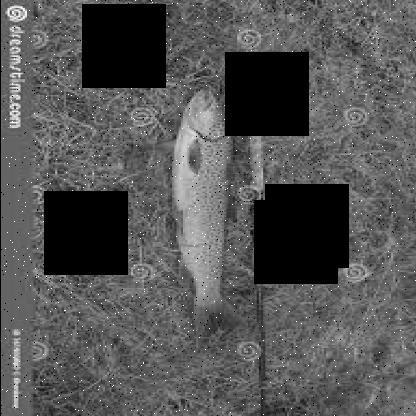fish: (148, 89, 245, 340)
